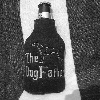beer: (19, 1, 65, 89)
